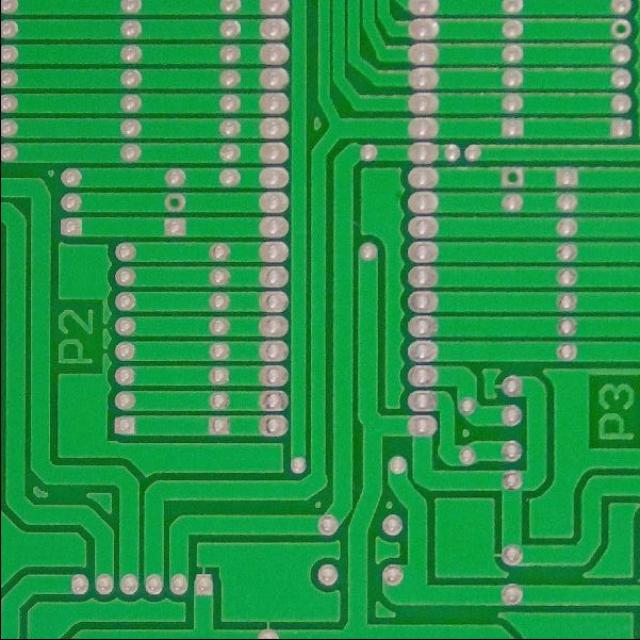Missing_Hole: (496, 163, 526, 191), (605, 16, 636, 42), (162, 190, 186, 214)
